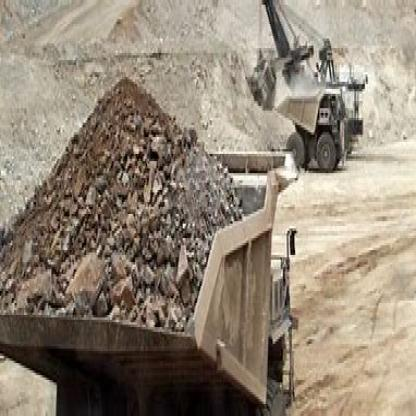dump_truck: (7, 48, 302, 404), (274, 60, 355, 190)
